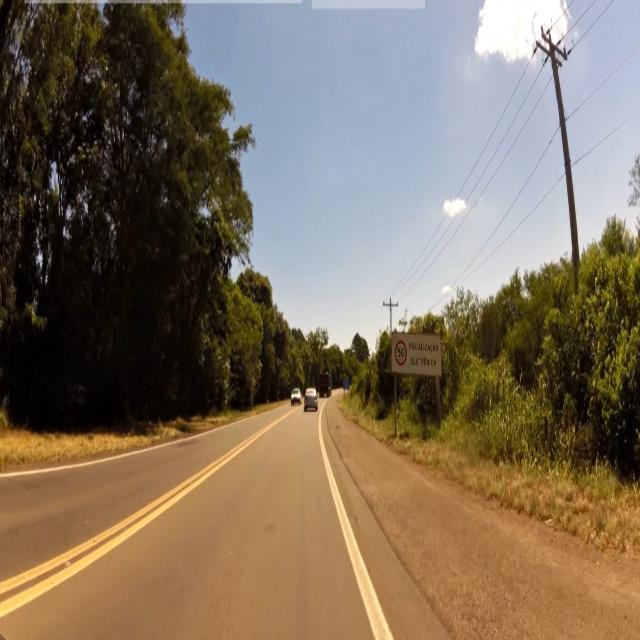R-19: (395, 336, 406, 369)
